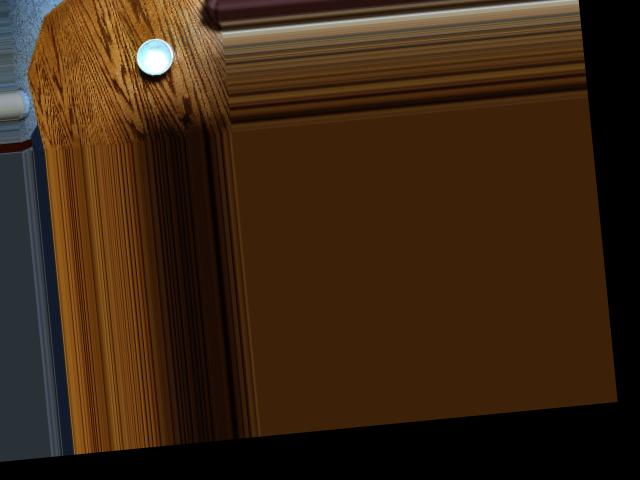cotage: (131, 34, 179, 76)
